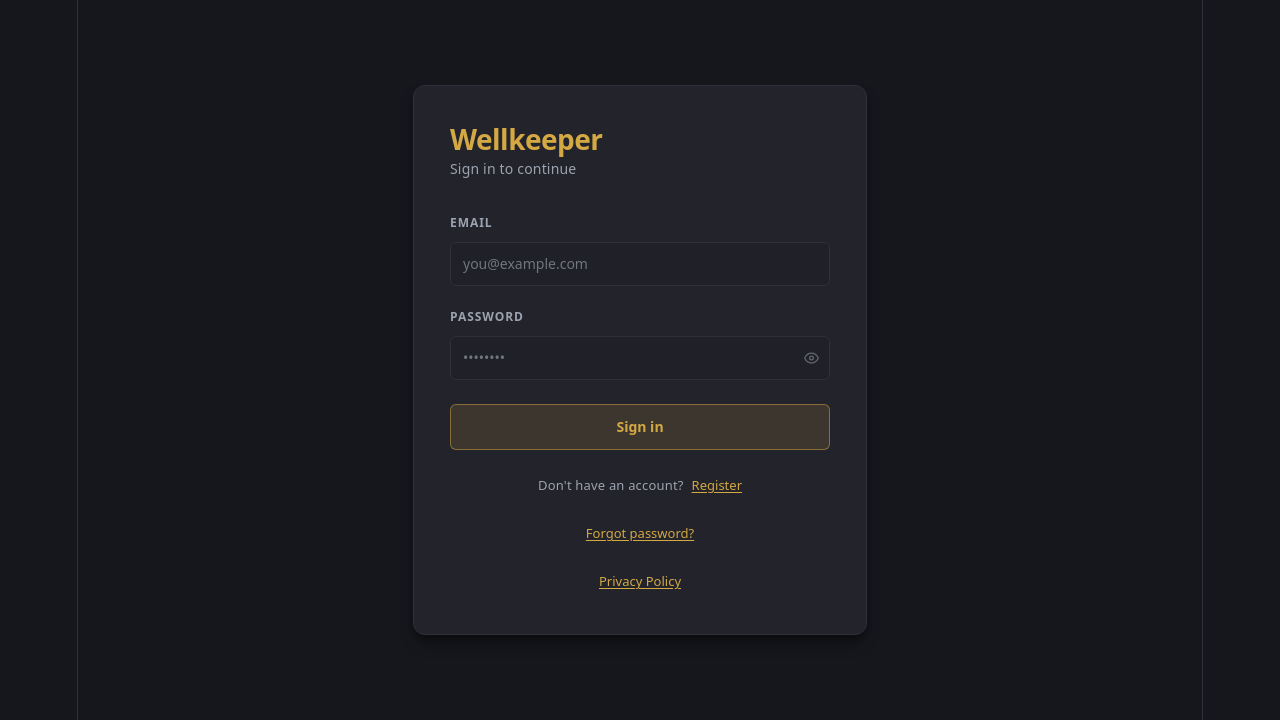
LoginPage › shows a server error message on 500
The image size is (1280, 720).
In the field labelled "Email": (640, 264) [450,242,830,286], type "dm@example.com"
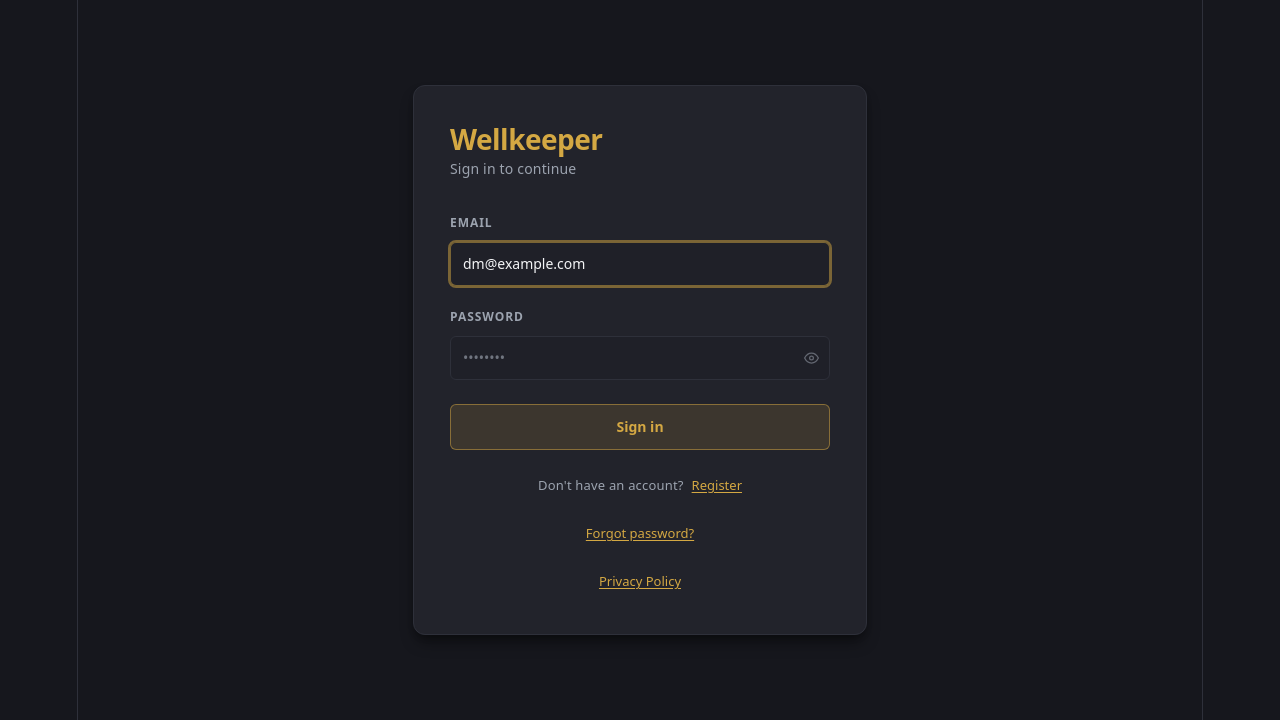
In the password field labelled "Password": (640, 358) [450,336,830,380], type "password"
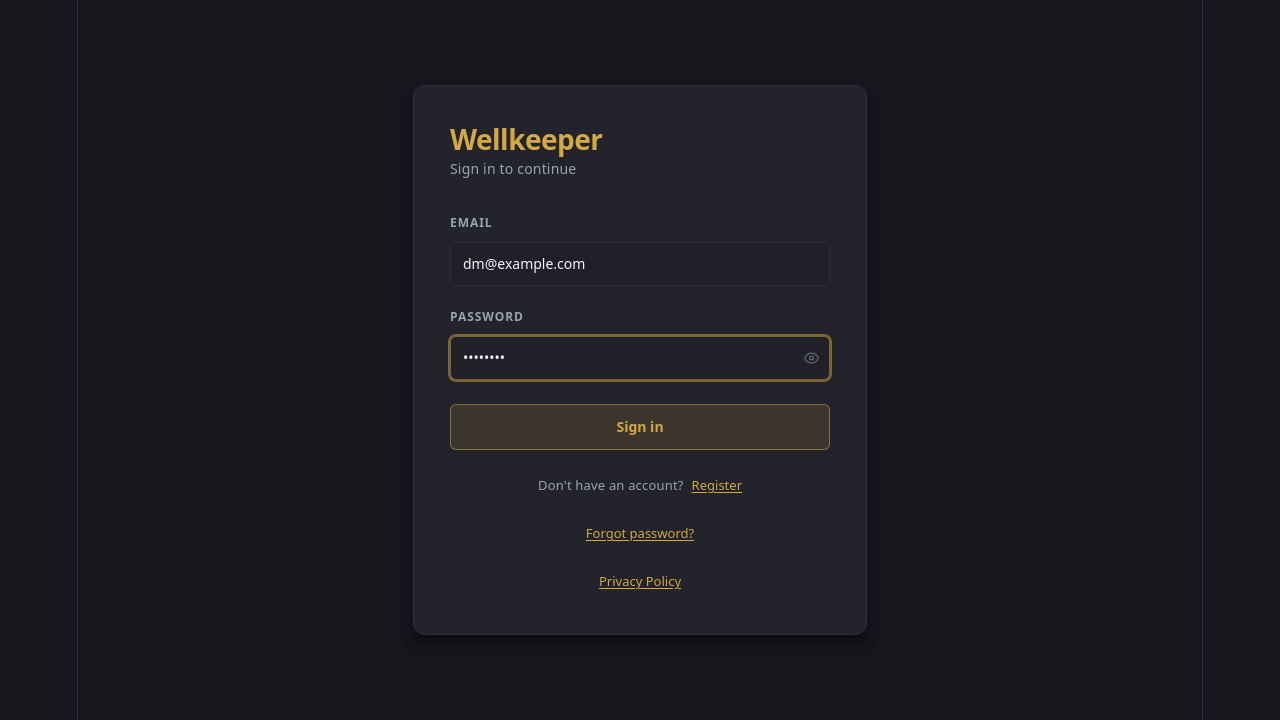
Click the button "Sign in": (640, 427) [450,404,830,450]
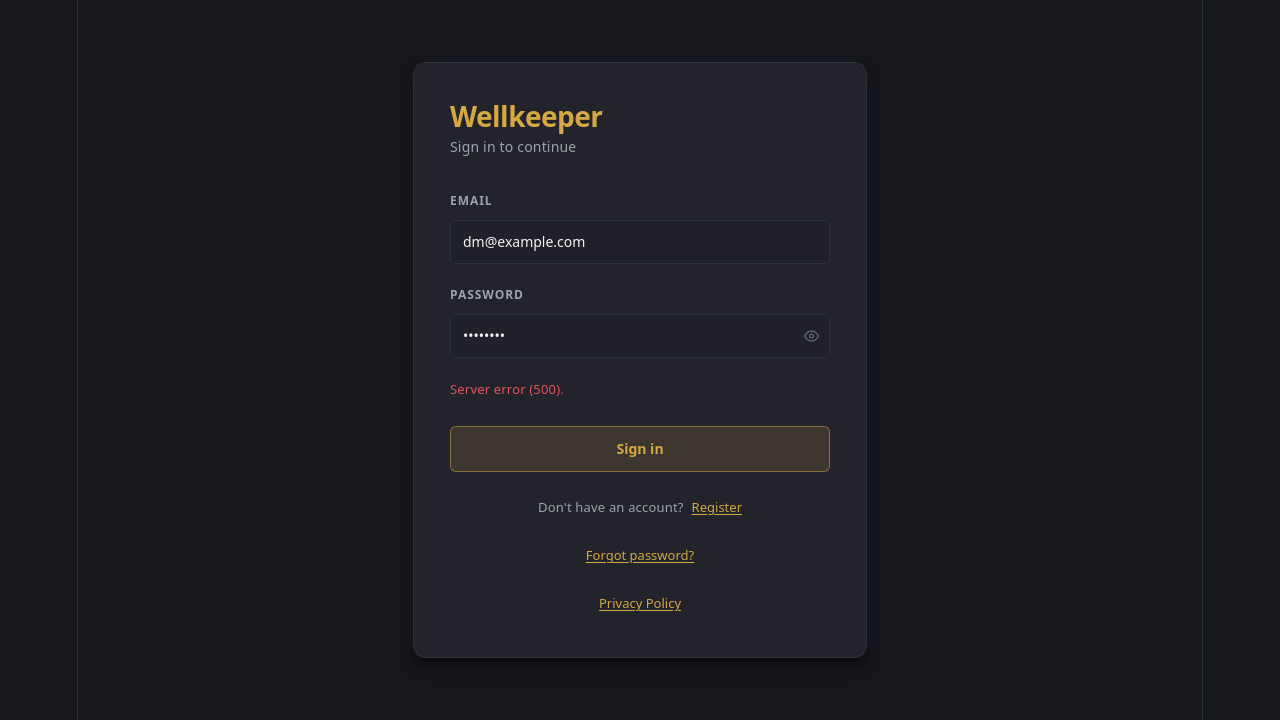
Result: the message shows "Server error" at [450,380,564,398]
